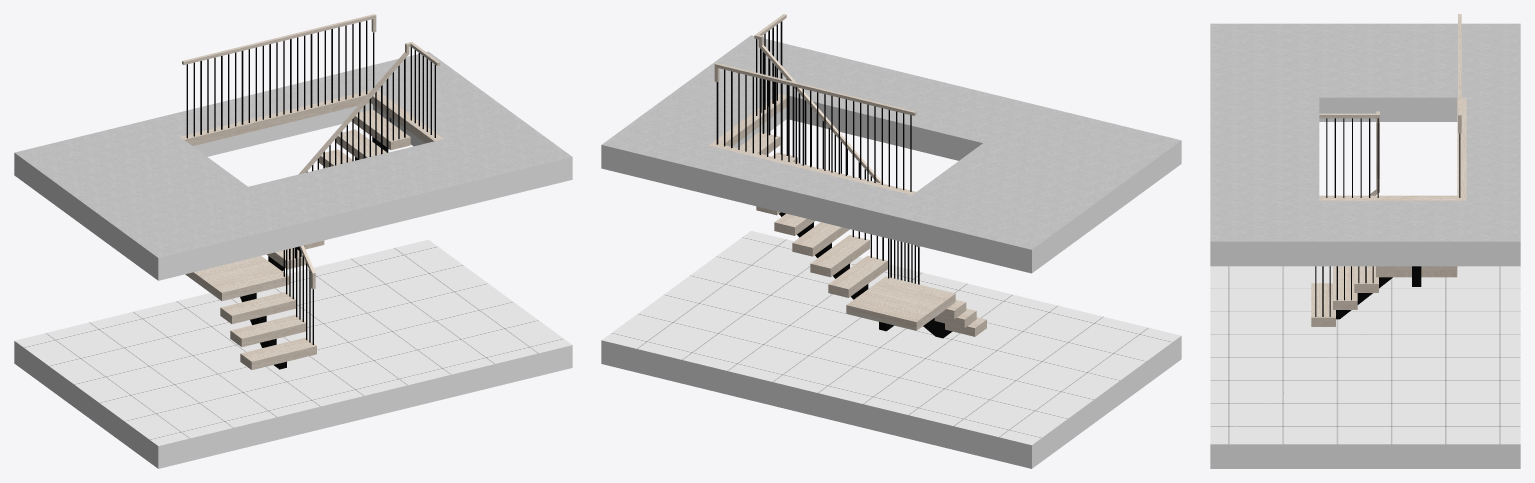
File: pine_ridge_-_no_walls.glb
3 renders of one model, left to right at view 1: azimuth 30°, elevation 25°; view 2: azimuth 150°, elevation 25°; view 3: azimuth 270°, elevation 25°, orthographic. The views are drawn at different scales.
Parts seen in each view (by area): view 1: Mesh44_Grid_20x20_1K_0, Mesh80_Carpet_04_1K_0, Mesh80_FrontColor_0, Mesh44_FrontColor_0, Mesh43_M_62_White_Oak_light_wood_fine_texture_seamless_0, Mesh80_M_62_White_Oak_light_wood_fine_texture_seamless_0, Mesh83_M_62_White_Oak_light_wood_fine_texture_seamless_0, Mesh41_M_62_White_Oak_light_wood_fine_texture_seamless_0, Mesh8_M_62_White_Oak_light_wood_fine_texture_seamless_0, Mesh16_M_62_White_Oak_light_wood_fine_texture_seamless_0, Mesh24_M_62_White_Oak_light_wood_fine_texture_seamless_0, Mesh32_M_62_White_Oak_light_wood_fine_texture_seamless_0 (+1 smaller); view 2: Mesh44_Grid_20x20_1K_0, Mesh80_Carpet_04_1K_0, Mesh80_FrontColor_0, Mesh44_FrontColor_0, Mesh43_M_62_White_Oak_light_wood_fine_texture_seamless_0, Mesh83_M_62_White_Oak_light_wood_fine_texture_seamless_0, Mesh80_M_62_White_Oak_light_wood_fine_texture_seamless_0, Mesh12_M_62_White_Oak_light_wood_fine_texture_seamless_0, Mesh20_M_62_White_Oak_light_wood_fine_texture_seamless_0, Mesh4_M_62_White_Oak_light_wood_fine_texture_seamless_0, Mesh37_M_62_White_Oak_light_wood_fine_texture_seamless_0, Mesh36_M_62_White_Oak_light_wood_fine_texture_seamless_0; view 3: Mesh80_Carpet_04_1K_0, Mesh44_Grid_20x20_1K_0, Mesh80_FrontColor_0, Mesh44_FrontColor_0, Mesh80_M_62_White_Oak_light_wood_fine_texture_seamless_0, Mesh83_M_62_White_Oak_light_wood_fine_texture_seamless_0, Mesh41_M_62_White_Oak_light_wood_fine_texture_seamless_0, Mesh8_M_62_White_Oak_light_wood_fine_texture_seamless_0, Mesh43_M_62_White_Oak_light_wood_fine_texture_seamless_0, Mesh16_M_62_White_Oak_light_wood_fine_texture_seamless_0.
Part boxes in pixels (x1=…): Mesh44_Grid_20x20_1K_0: x1=14, y1=239, x2=571, y2=445; Mesh80_Carpet_04_1K_0: x1=15, y1=51, x2=571, y2=257; Mesh80_FrontColor_0: x1=14, y1=103, x2=572, y2=280; Mesh44_FrontColor_0: x1=14, y1=341, x2=572, y2=468; Mesh43_M_62_White_Oak_light_wood_fine_texture_seamless_0: x1=185, y1=256, x2=289, y2=300; Mesh80_M_62_White_Oak_light_wood_fine_texture_seamless_0: x1=180, y1=90, x2=443, y2=145; Mesh83_M_62_White_Oak_light_wood_fine_texture_seamless_0: x1=182, y1=14, x2=440, y2=289; Mesh41_M_62_White_Oak_light_wood_fine_texture_seamless_0: x1=240, y1=337, x2=316, y2=369; Mesh8_M_62_White_Oak_light_wood_fine_texture_seamless_0: x1=230, y1=314, x2=305, y2=346; Mesh16_M_62_White_Oak_light_wood_fine_texture_seamless_0: x1=220, y1=291, x2=295, y2=323; Mesh24_M_62_White_Oak_light_wood_fine_texture_seamless_0: x1=353, y1=109, x2=410, y2=150; Mesh32_M_62_White_Oak_light_wood_fine_texture_seamless_0: x1=336, y1=129, x2=386, y2=159; Mesh44_Grid_20x20_1K_0: x1=602, y1=231, x2=1180, y2=445; Mesh80_Carpet_04_1K_0: x1=602, y1=35, x2=1180, y2=249; Mesh80_FrontColor_0: x1=601, y1=96, x2=1181, y2=273; Mesh44_FrontColor_0: x1=601, y1=336, x2=1181, y2=468; Mesh43_M_62_White_Oak_light_wood_fine_texture_seamless_0: x1=846, y1=276, x2=955, y2=330; Mesh83_M_62_White_Oak_light_wood_fine_texture_seamless_0: x1=714, y1=14, x2=920, y2=247; Mesh80_M_62_White_Oak_light_wood_fine_texture_seamless_0: x1=709, y1=93, x2=915, y2=194; Mesh12_M_62_White_Oak_light_wood_fine_texture_seamless_0: x1=810, y1=235, x2=869, y2=277; Mesh20_M_62_White_Oak_light_wood_fine_texture_seamless_0: x1=828, y1=255, x2=887, y2=297; Mesh4_M_62_White_Oak_light_wood_fine_texture_seamless_0: x1=792, y1=222, x2=849, y2=256; Mesh37_M_62_White_Oak_light_wood_fine_texture_seamless_0: x1=721, y1=96, x2=786, y2=146; Mesh36_M_62_White_Oak_light_wood_fine_texture_seamless_0: x1=774, y1=213, x2=815, y2=235; Mesh80_Carpet_04_1K_0: x1=1210, y1=23, x2=1520, y2=241; Mesh44_Grid_20x20_1K_0: x1=1210, y1=266, x2=1520, y2=444; Mesh80_FrontColor_0: x1=1210, y1=97, x2=1520, y2=266; Mesh44_FrontColor_0: x1=1210, y1=444, x2=1520, y2=468; Mesh80_M_62_White_Oak_light_wood_fine_texture_seamless_0: x1=1319, y1=97, x2=1466, y2=200; Mesh83_M_62_White_Oak_light_wood_fine_texture_seamless_0: x1=1319, y1=14, x2=1461, y2=195; Mesh41_M_62_White_Oak_light_wood_fine_texture_seamless_0: x1=1311, y1=283, x2=1335, y2=326; Mesh8_M_62_White_Oak_light_wood_fine_texture_seamless_0: x1=1333, y1=266, x2=1357, y2=309; Mesh43_M_62_White_Oak_light_wood_fine_texture_seamless_0: x1=1376, y1=269, x2=1457, y2=277; Mesh16_M_62_White_Oak_light_wood_fine_texture_seamless_0: x1=1354, y1=266, x2=1378, y2=292.
Bounding box in the file's own units: 57.05 × 37.96 × 34.36.
5 materials, 3 textured.
